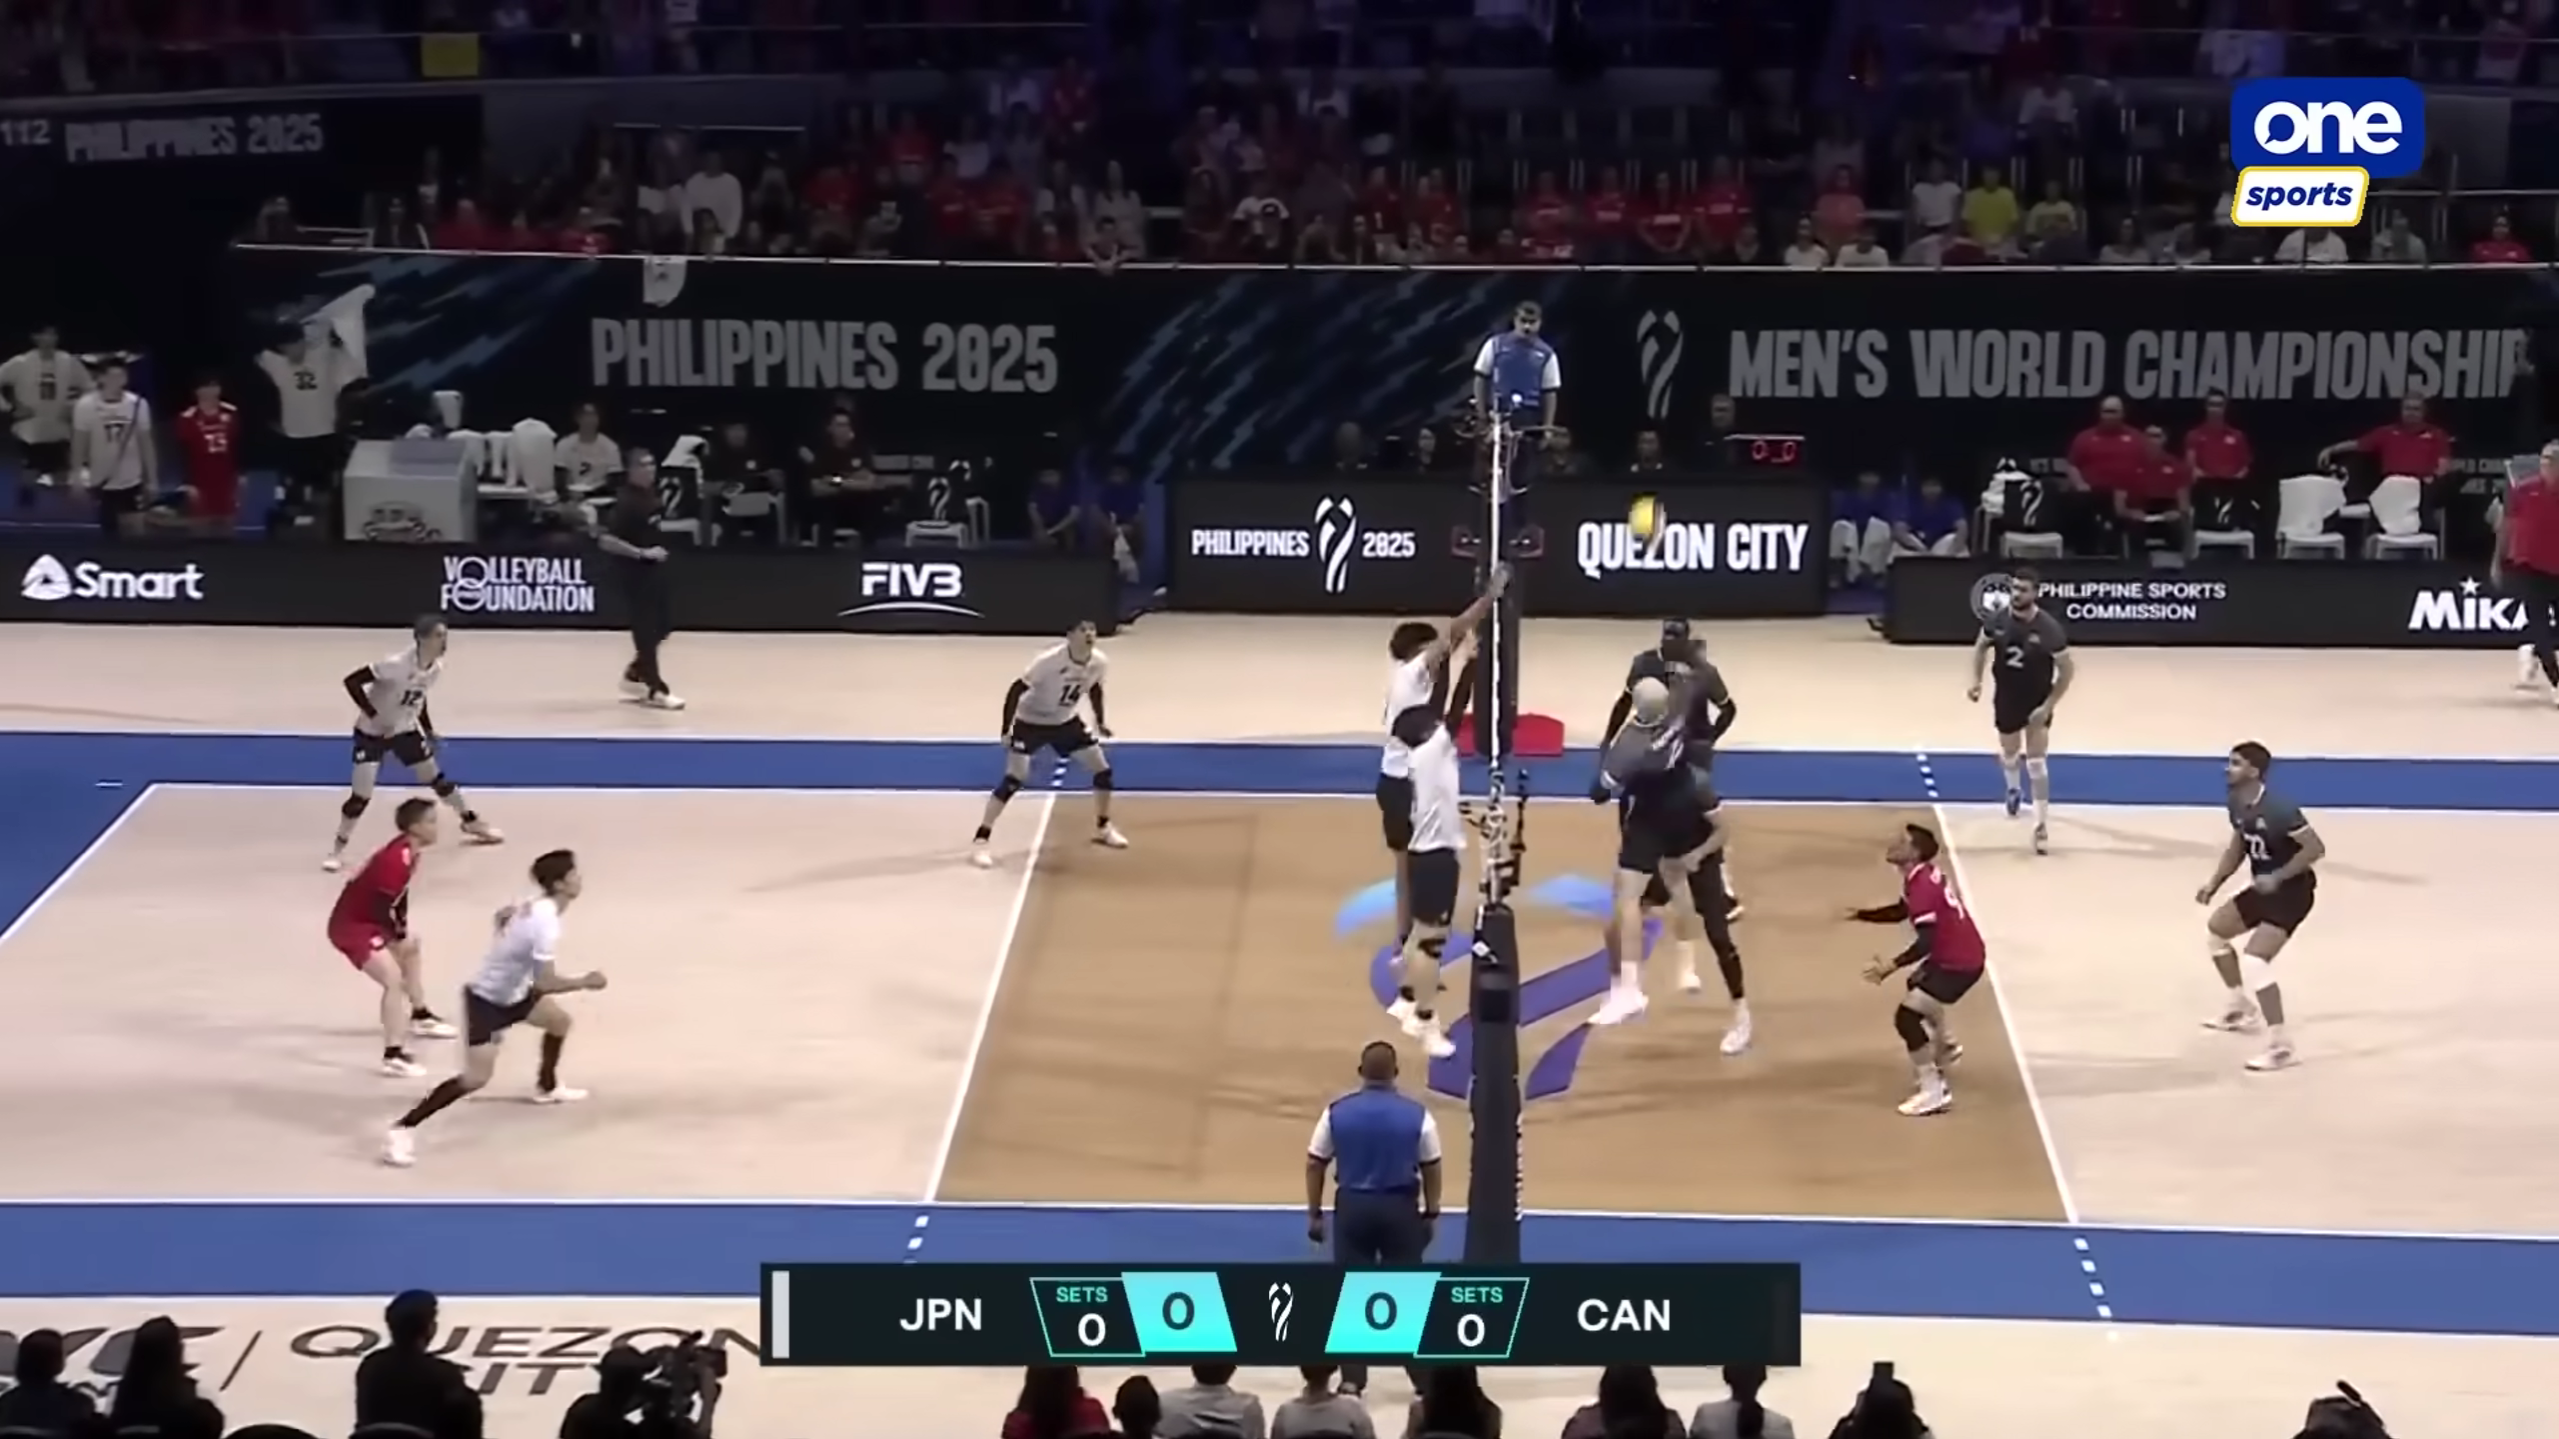Ball: (1622, 490, 1675, 548)
